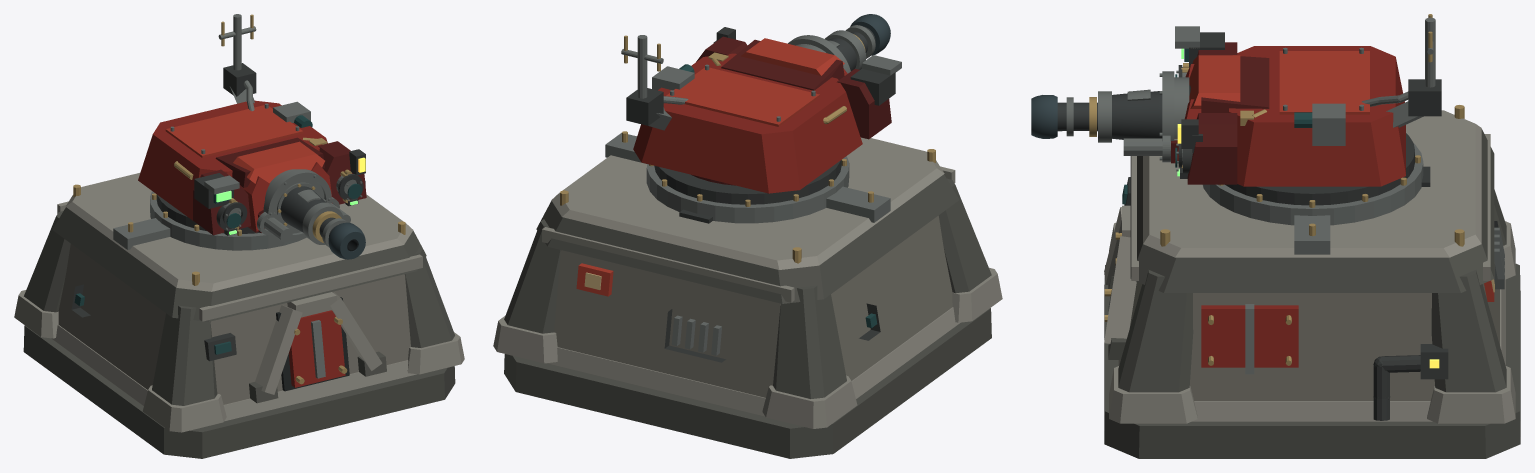
The model's file is martian_heavy_weapon_bunker_v09_flat_export.glb.
The picture shows the model from 3 angles, left to right: view 1: azimuth 30°, elevation 25°; view 2: azimuth 150°, elevation 25°; view 3: azimuth 270°, elevation 25°; orthographic projection. The views are drawn at different scales.
Parts seen in each view (by area): view 1: 03_monolithic_bunker_mass, 01_foundation_granular_ferrocrete, 05_top_concrete_skin, 04_upper_blast_cap, 16_martian_red_turret_armor, 06_corner_armor_buttress_WS, 02_lower_blast_raft, 87_roof_red_inspection_armor, 53_south_slab_anchor_strip, 06_corner_armor_buttress_ES, 09_steel_service_hatch, 06_corner_armor_buttress_WN (+27 smaller); view 2: 03_monolithic_bunker_mass, 05_top_concrete_skin, 01_foundation_granular_ferrocrete, 16_martian_red_turret_armor, 04_upper_blast_cap, 02_lower_blast_raft, 06_corner_armor_buttress_WN, 87_roof_red_inspection_armor, 13_ring_lower_bearing_seat, 06_corner_armor_buttress_EN, 06_corner_armor_buttress_WS, 14_ring_open_bearing_race (+19 smaller); view 3: 05_top_concrete_skin, 03_monolithic_bunker_mass, 01_foundation_granular_ferrocrete, 04_upper_blast_cap, 16_martian_red_turret_armor, 06_corner_armor_buttress_ES, 06_corner_armor_buttress_EN, 55_east_wall_controller_armor, 87_roof_red_inspection_armor, 02_lower_blast_raft, 13_ring_lower_bearing_seat, 18_turret_front_cheek_E (+27 smaller).
Part boxes in pixels (x1,y1,x2,y2): 03_monolithic_bunker_mass: (58,243,410,404); 01_foundation_granular_ferrocrete: (23,325,455,458); 05_top_concrete_skin: (65,173,413,291); 04_upper_blast_cap: (52,207,426,321); 16_martian_red_turret_armor: (138,100,327,220); 06_corner_armor_buttress_WS: (152,305,217,405); 02_lower_blast_raft: (51,324,416,421); 87_roof_red_inspection_armor: (165,105,303,157); 53_south_slab_anchor_strip: (199,254,422,321); 06_corner_armor_buttress_ES: (404,247,454,347); 09_steel_service_hatch: (288,310,345,387); 06_corner_armor_buttress_WN: (24,211,70,312); 03_monolithic_bunker_mass: (554,215,952,397); 05_top_concrete_skin: (551,137,944,269); 01_foundation_granular_ferrocrete: (504,308,991,458); 16_martian_red_turret_armor: (633,53,862,193); 04_upper_blast_cap: (536,174,959,303); 02_lower_blast_raft: (547,307,960,416); 06_corner_armor_buttress_WN: (773,285,846,398); 87_roof_red_inspection_armor: (666,67,819,126); 13_ring_lower_bearing_seat: (646,156,849,223); 06_corner_armor_buttress_EN: (504,219,560,333); 06_corner_armor_buttress_WS: (938,178,991,293); 14_ring_open_bearing_race: (654,160,841,204); 05_top_concrete_skin: (1143,110,1481,257); 03_monolithic_bunker_mass: (1130,262,1499,400); 01_foundation_granular_ferrocrete: (1104,263,1520,458); 04_upper_blast_cap: (1130,129,1494,292); 16_martian_red_turret_armor: (1228,46,1405,186); 06_corner_armor_buttress_ES: (1118,270,1193,392); 06_corner_armor_buttress_EN: (1431,270,1506,392); 55_east_wall_controller_armor: (1201,305,1298,367); 87_roof_red_inspection_armor: (1279,51,1369,114); 02_lower_blast_raft: (1118,279,1505,421); 13_ring_lower_bearing_seat: (1203,143,1423,225); 18_turret_front_cheek_E: (1187,113,1237,184).
Bounding box in the file's own units: 3.04 × 3.01 × 3.53.
